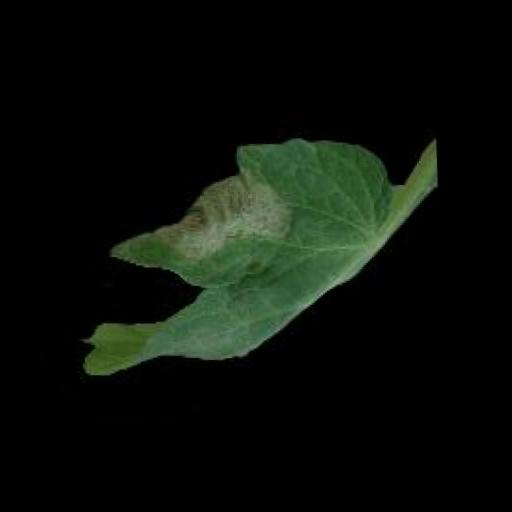Late Blight: (62, 115, 413, 392)
